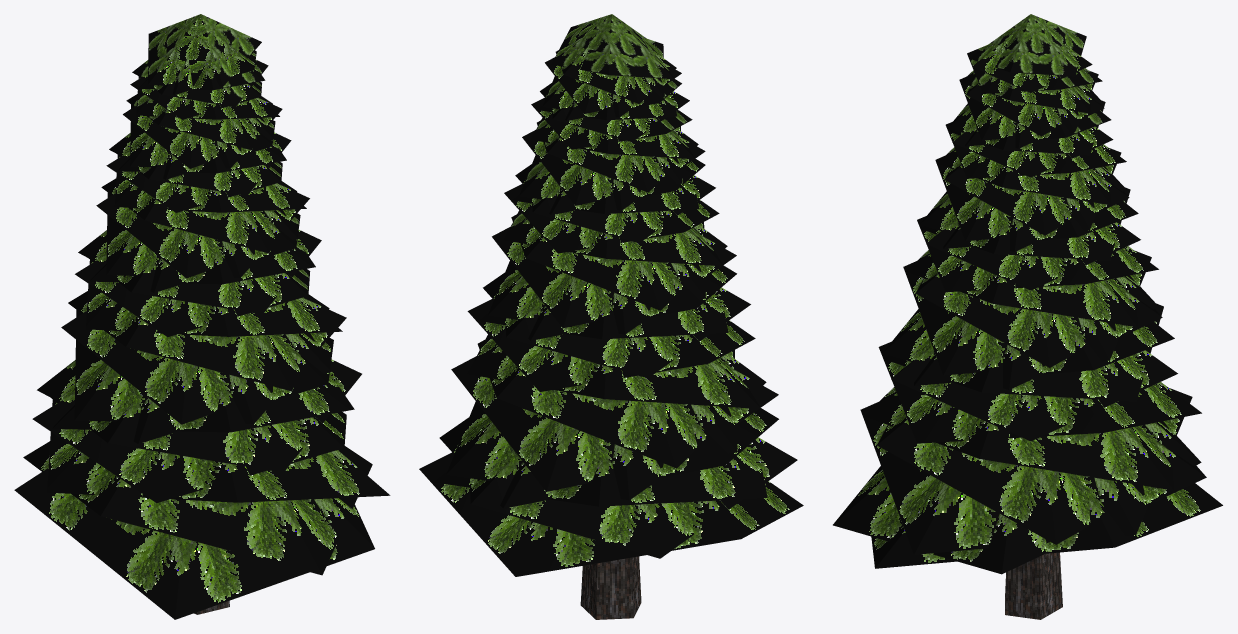
The model's file is pine_tree.glb.
The picture shows the model from 3 angles, left to right: view 1: azimuth 30°, elevation 25°; view 2: azimuth 150°, elevation 25°; view 3: azimuth 270°, elevation 25°; orthographic projection.
Visible parts, largest first — view 1: pine_tree; view 2: pine_tree; view 3: pine_tree.
Boxes of the visible parts, x1,y1,x2,y2 form: pine_tree: (14, 14, 390, 619); pine_tree: (419, 14, 803, 619); pine_tree: (833, 14, 1222, 619).
Size of what is drawn, in the model's own units: 8.08 by 14.37 by 8.59.
2 materials, 2 textured.
